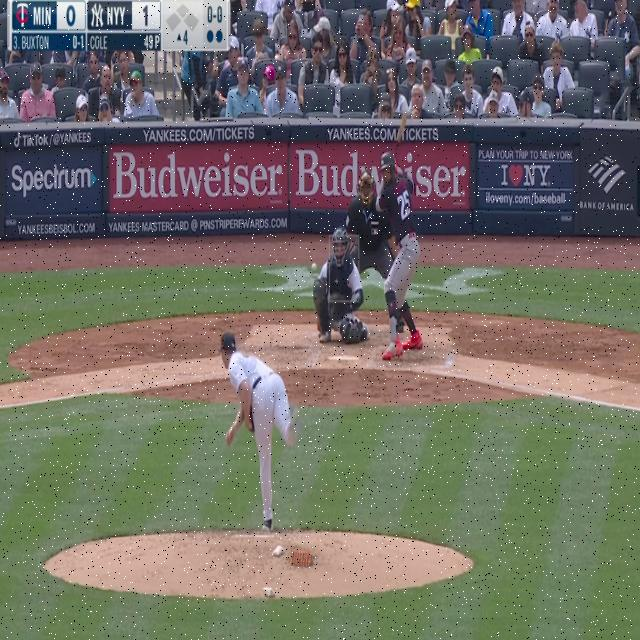baseball: (310, 262, 318, 274)
